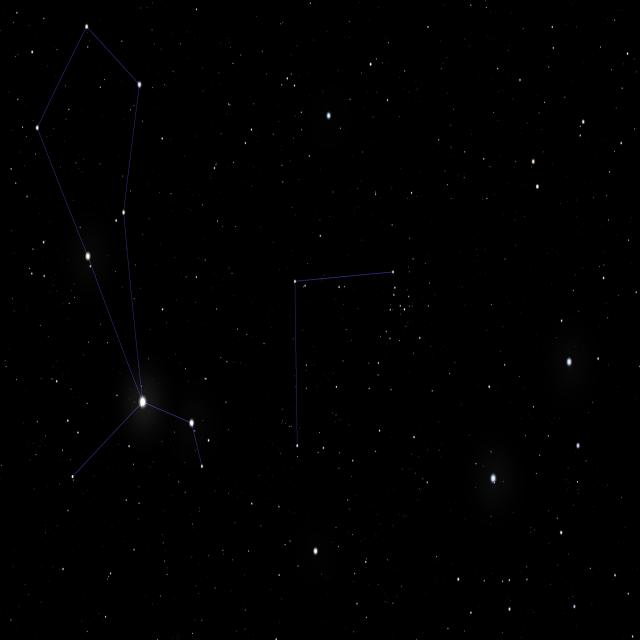Coma Berenices: (289, 254, 417, 473)
